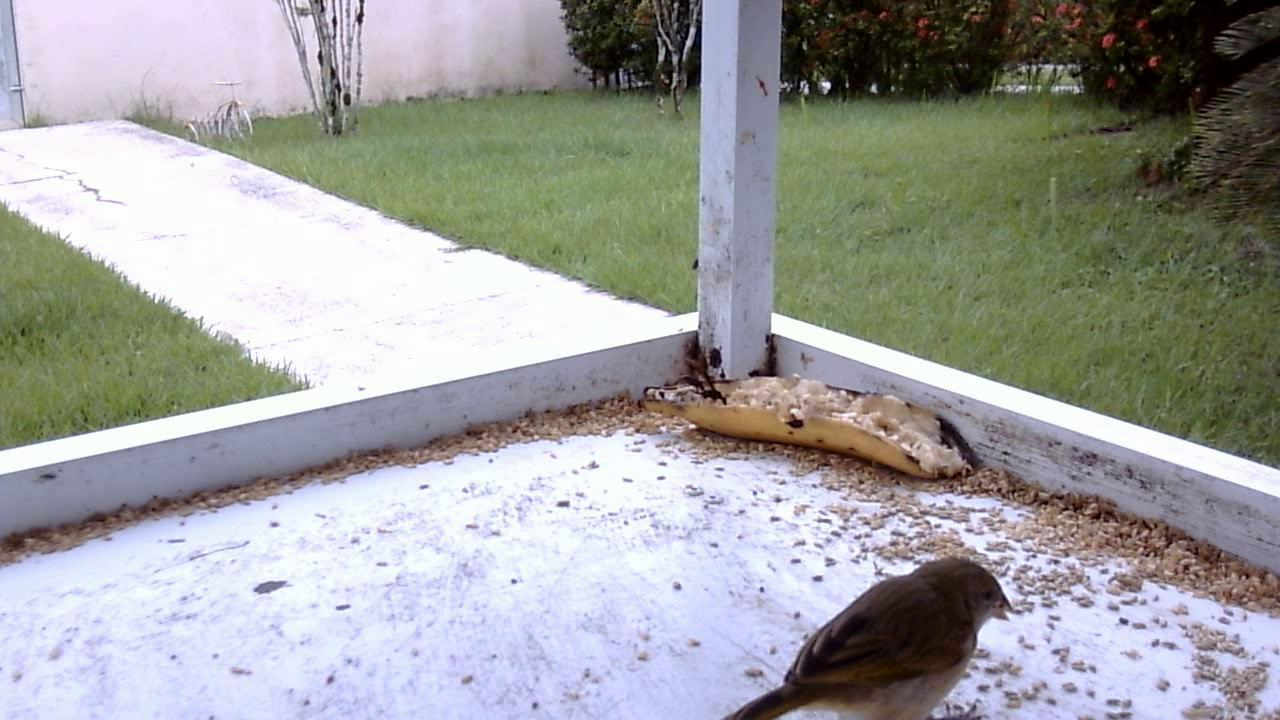canario_do_amazonas: (712, 548, 1021, 720)
